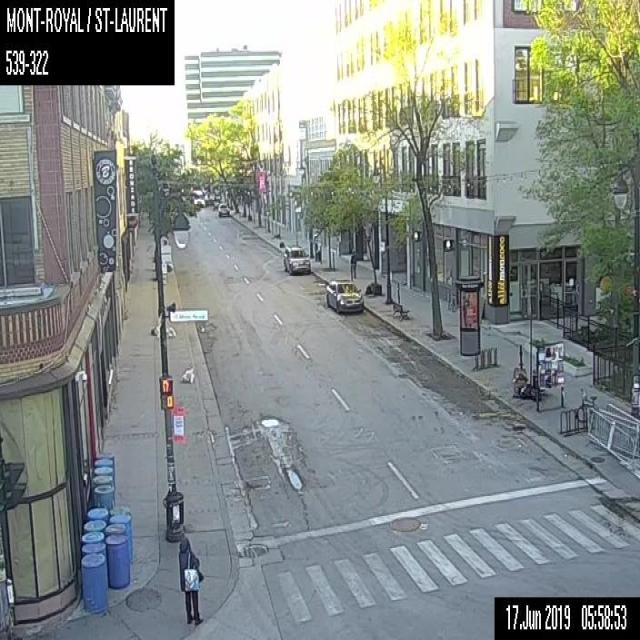pedestrian: (177, 535, 204, 625), (348, 244, 358, 280)
vehicle: (324, 276, 364, 315), (281, 244, 311, 275), (216, 200, 229, 219), (193, 189, 204, 205)
